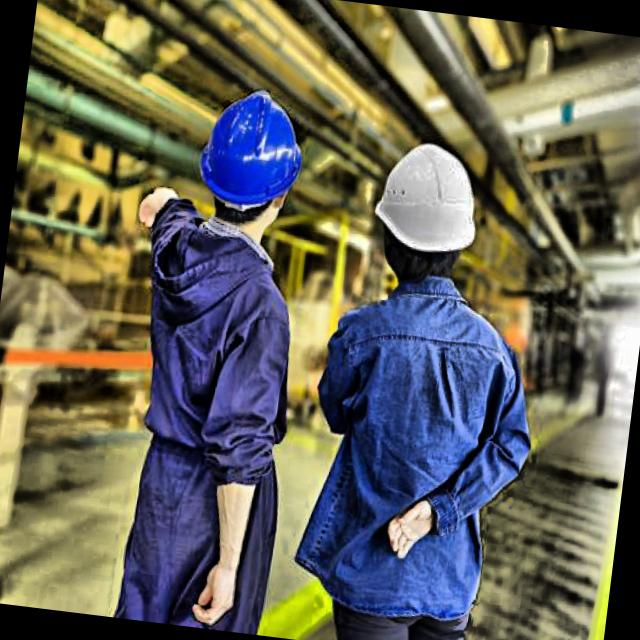helmet: (188, 75, 332, 264), (340, 131, 491, 309)
